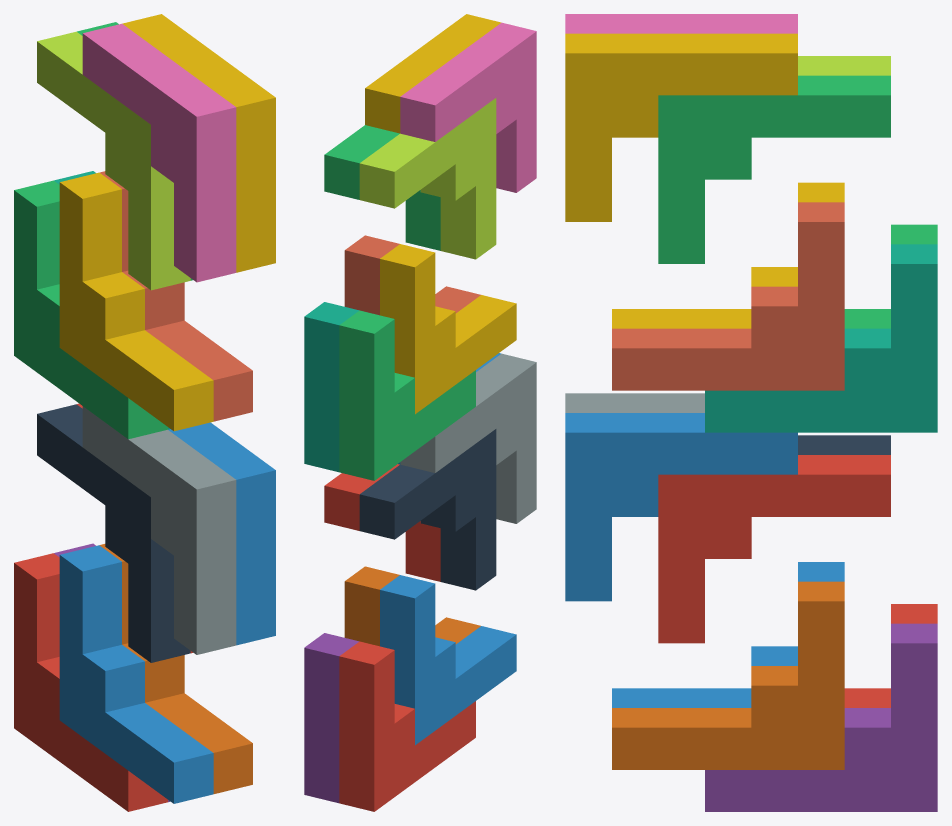
File: tiling.obj
The picture shows the model from 3 angles, left to right: view 1: azimuth 30°, elevation 25°; view 2: azimuth 150°, elevation 25°; view 3: azimuth 270°, elevation 25°; orthographic projection. The views are drawn at different scales.
Parts seen in each view (by area): view 1: copy_2_domain_4, copy_1_domain_2, copy_1_domain_4, copy_2_domain_2, copy_1_domain_1, copy_1_domain_3, copy_2_domain_3, copy_2_domain_1, copy_2_domain_8, copy_2_domain_6, copy_1_domain_8, copy_1_domain_6; view 2: copy_1_domain_1, copy_1_domain_3, copy_2_domain_4, copy_2_domain_1, copy_2_domain_3, copy_1_domain_2, copy_1_domain_4, copy_2_domain_2, copy_1_domain_5, copy_1_domain_7, copy_2_domain_8, copy_2_domain_7 (+3 smaller); view 3: copy_1_domain_8, copy_2_domain_8, copy_1_domain_6, copy_2_domain_6, copy_1_domain_7, copy_2_domain_7, copy_2_domain_5, copy_1_domain_5, copy_1_domain_4, copy_1_domain_2, copy_2_domain_4, copy_2_domain_2 (+4 smaller).
Boxes of the visible parts, x1,y1,x2,y2 form: copy_2_domain_4: [82, 23, 236, 282]; copy_1_domain_2: [59, 545, 213, 803]; copy_1_domain_4: [59, 172, 213, 431]; copy_2_domain_2: [82, 406, 236, 654]; copy_1_domain_1: [14, 553, 167, 811]; copy_1_domain_3: [14, 180, 167, 439]; copy_2_domain_3: [37, 31, 190, 290]; copy_2_domain_1: [37, 404, 190, 662]; copy_2_domain_8: [122, 14, 275, 272]; copy_2_domain_6: [168, 422, 275, 645]; copy_1_domain_8: [99, 171, 252, 421]; copy_1_domain_6: [99, 544, 252, 793]; copy_1_domain_1: [339, 641, 475, 811]; copy_1_domain_3: [339, 310, 475, 480]; copy_2_domain_4: [400, 22, 536, 192]; copy_2_domain_1: [359, 429, 496, 590]; copy_2_domain_3: [359, 98, 496, 259]; copy_1_domain_2: [380, 575, 516, 745]; copy_1_domain_4: [380, 244, 516, 414]; copy_2_domain_2: [400, 353, 536, 523]; copy_1_domain_5: [304, 633, 359, 803]; copy_1_domain_7: [304, 302, 359, 472]; copy_2_domain_8: [365, 14, 501, 133]; copy_2_domain_7: [324, 125, 440, 250]; copy_1_domain_8: [612, 202, 844, 390]; copy_2_domain_8: [565, 33, 797, 221]; copy_1_domain_6: [612, 581, 844, 769]; copy_2_domain_6: [565, 413, 797, 601]; copy_1_domain_7: [705, 244, 937, 432]; copy_2_domain_7: [658, 75, 890, 263]; copy_2_domain_5: [658, 455, 890, 643]; copy_1_domain_5: [705, 623, 937, 811]; copy_1_domain_4: [612, 182, 844, 328]; copy_1_domain_2: [612, 562, 844, 707]; copy_2_domain_4: [565, 14, 797, 33]; copy_2_domain_2: [565, 393, 704, 412].
Size of the model in its own units: 2 by 18 by 8.
